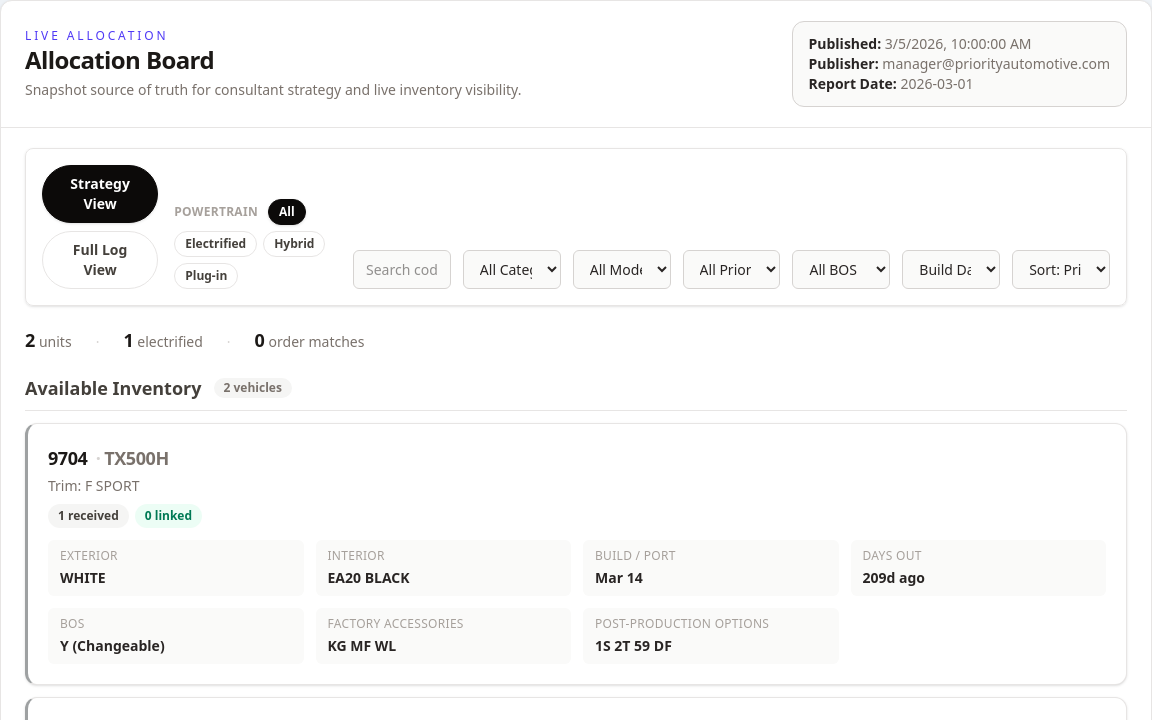
AllocationBoard › powertrain filter narrows the visible cards (Hybrid keeps only the hybrid model)
Click the button "Hybrid".
click(294, 244)  # box [263, 231, 325, 257]
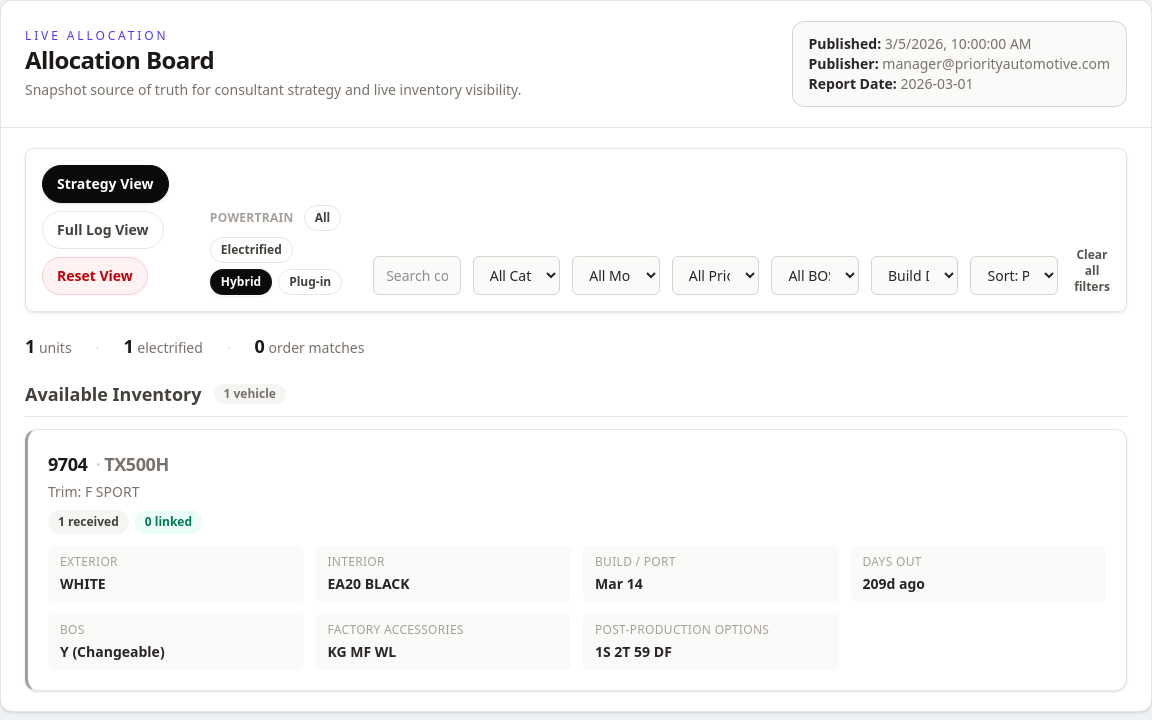
Expected: the number of elements with test id "model-total-pills" is 1, [48, 510, 202, 534]
Plug-in → neither model qualifies → no strategy cards.
Click the button "Plug-in".
click(310, 282)  # box [278, 269, 342, 295]
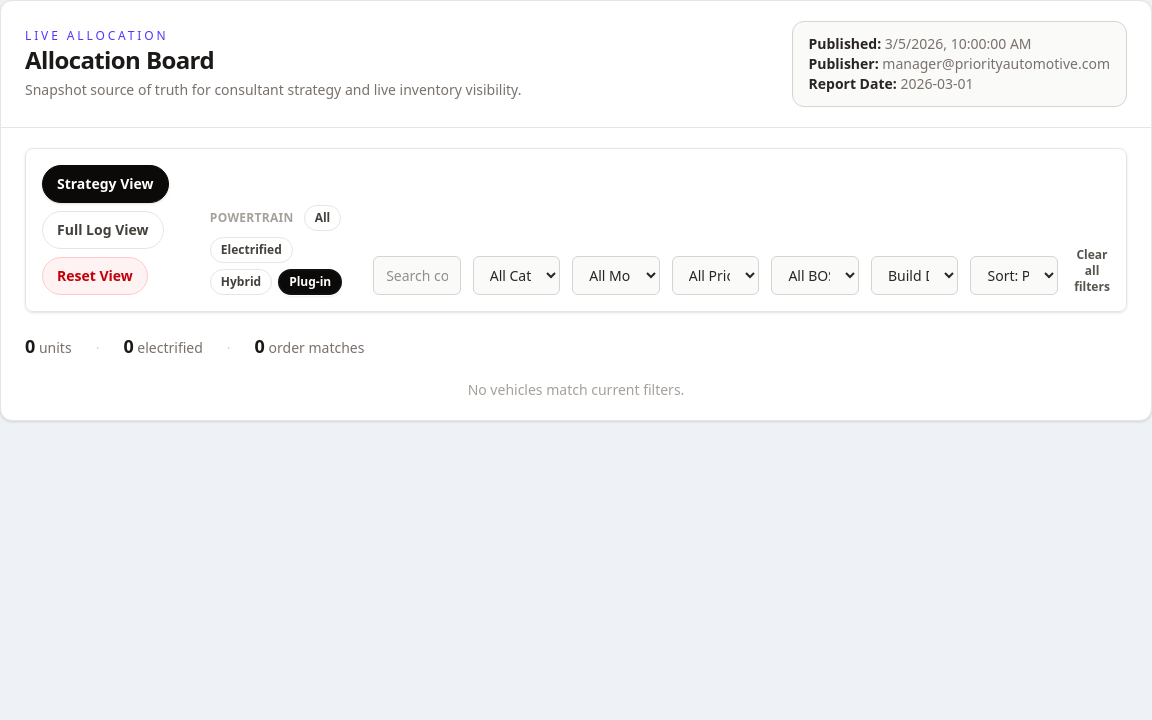
Expected: no elements with test id "model-total-pills" are shown
Electrified umbrella → the hybrid returns.
Click the button "Electrified".
click(251, 250)  # box [210, 237, 293, 263]
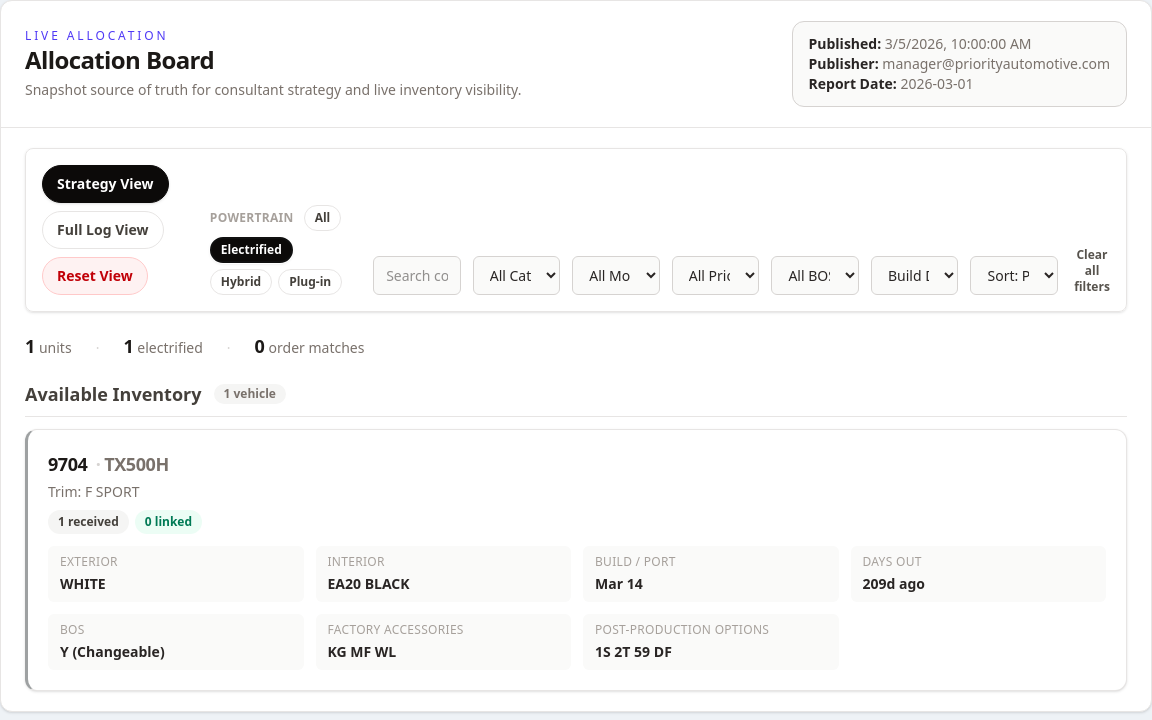
Expected: the number of elements with test id "model-total-pills" is 1, [48, 510, 202, 534]
